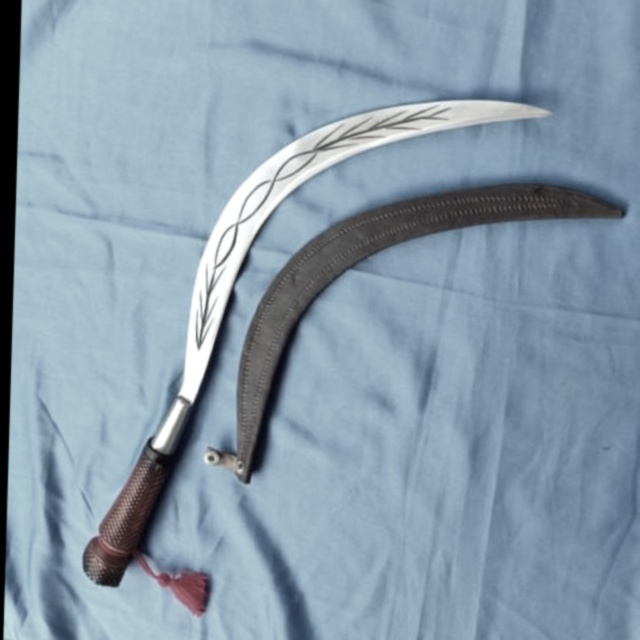Sharp-Object: (74, 79, 528, 603)
